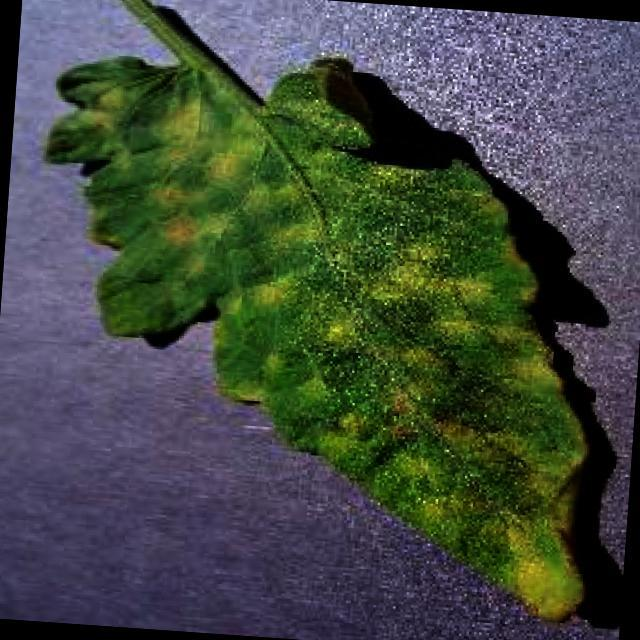Tomato mold leaf: (12, 39, 622, 628)
